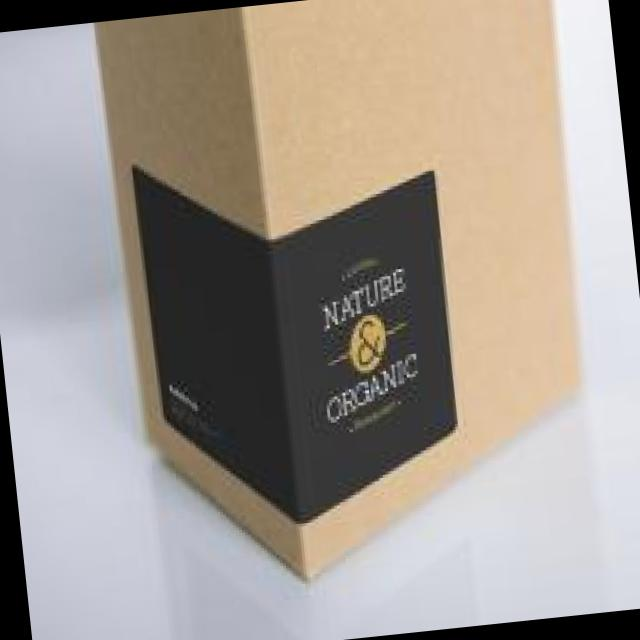box: (94, 1, 587, 585)
